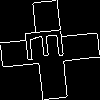E: (25, 25, 73, 63)
